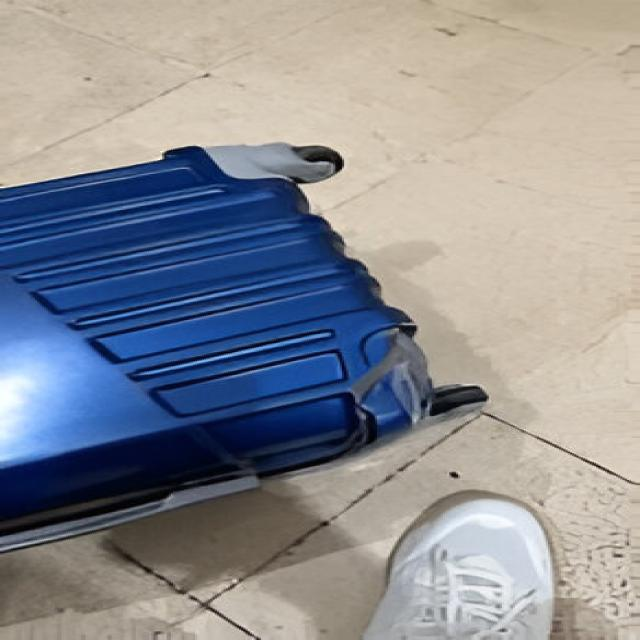Damage-bag: (351, 330, 430, 441)
